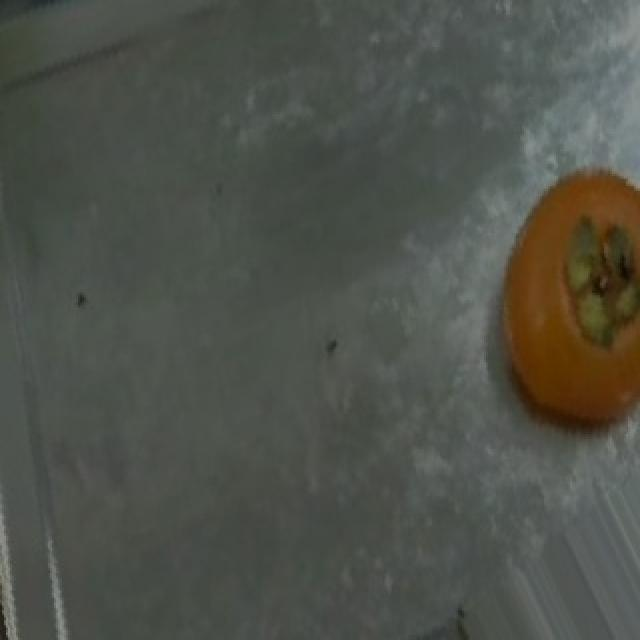Fruit: (472, 146, 640, 464)
